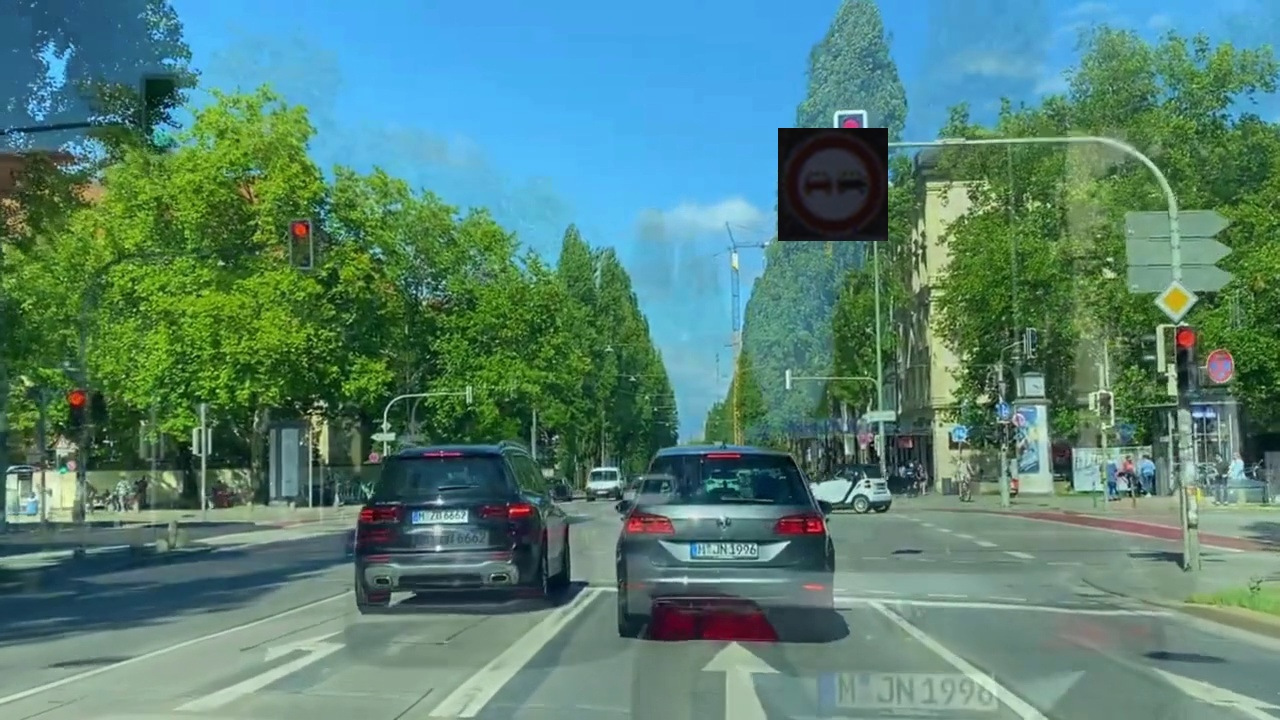No passing: (778, 128, 888, 241)
